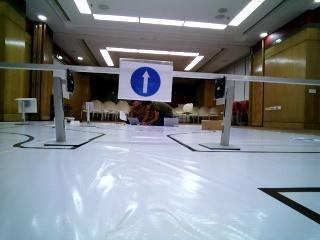straight: (119, 60, 173, 100)
